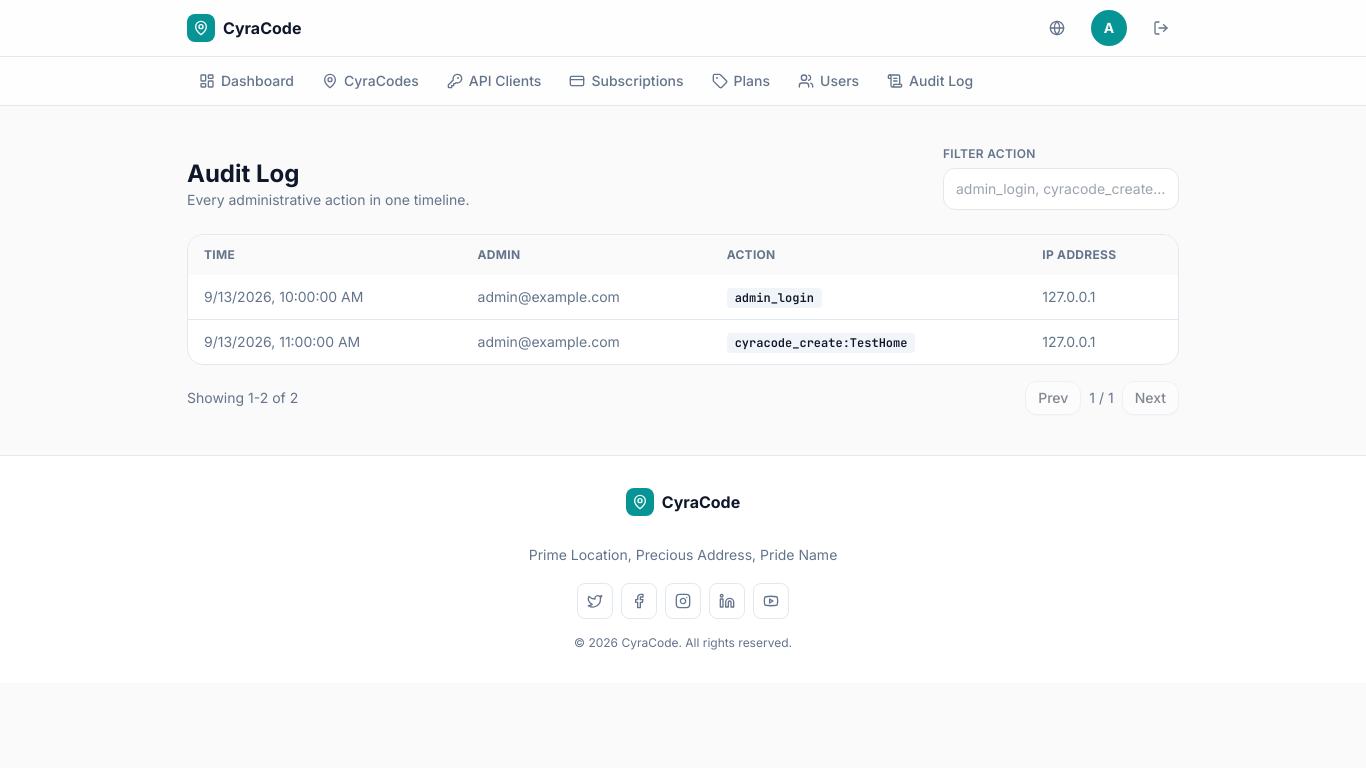
Scenario: AdminAuditLogs › filters entries by action
expect the text "admin_login" is shown: met, box [727, 288, 822, 308]
Type "cyracode_create:TestHome" into the field labelled "Filter action" at (1061, 189), box [943, 168, 1179, 210]
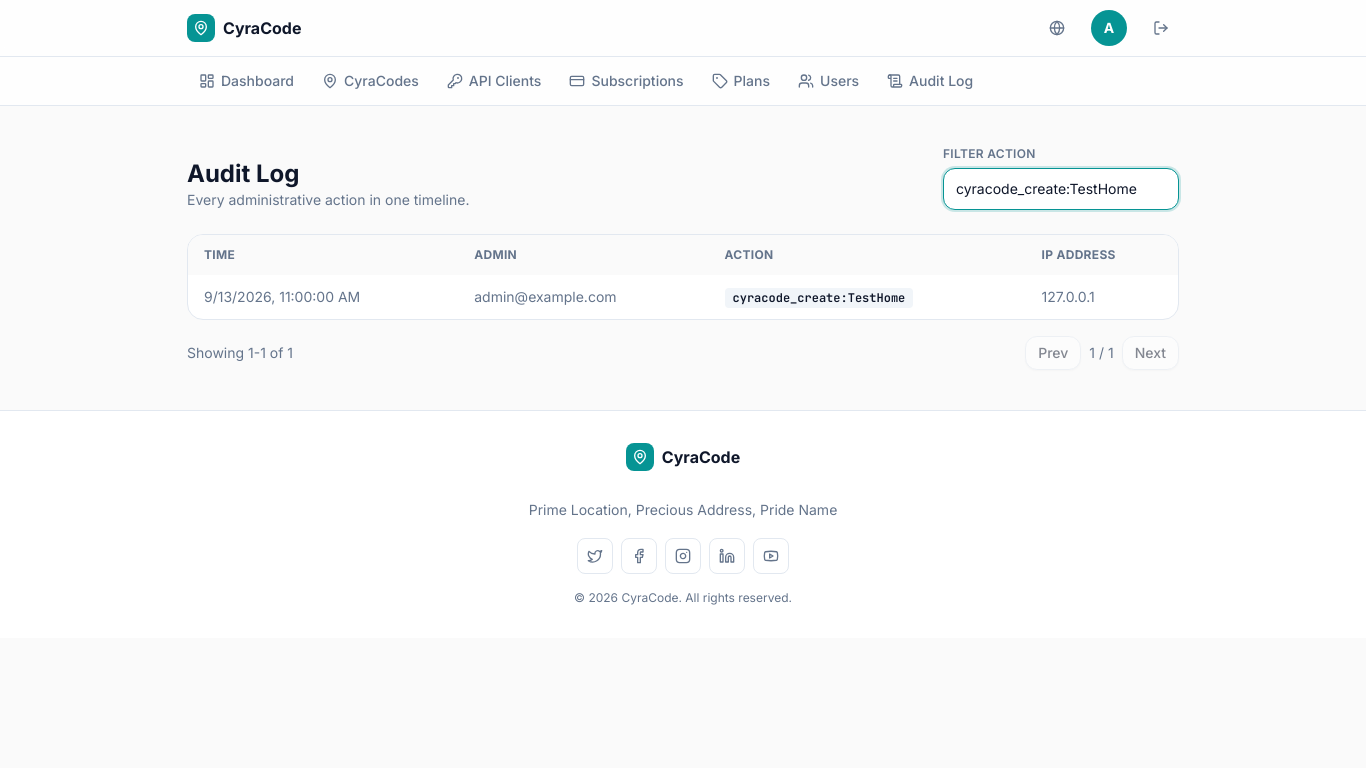
expect the text "cyracode_create:TestHome" is shown: met, box [724, 288, 913, 308]
expect the text "admin_login" is gone: met
